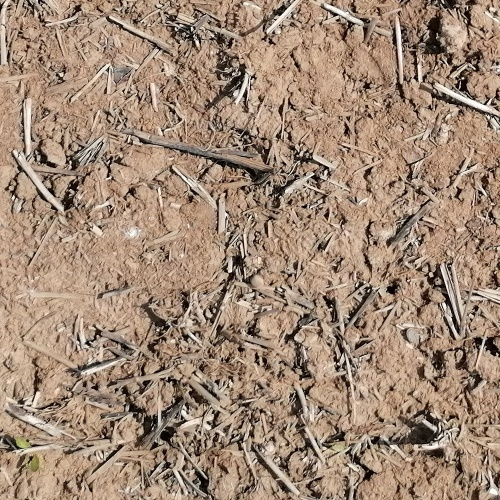beet: (15, 437, 42, 471)
